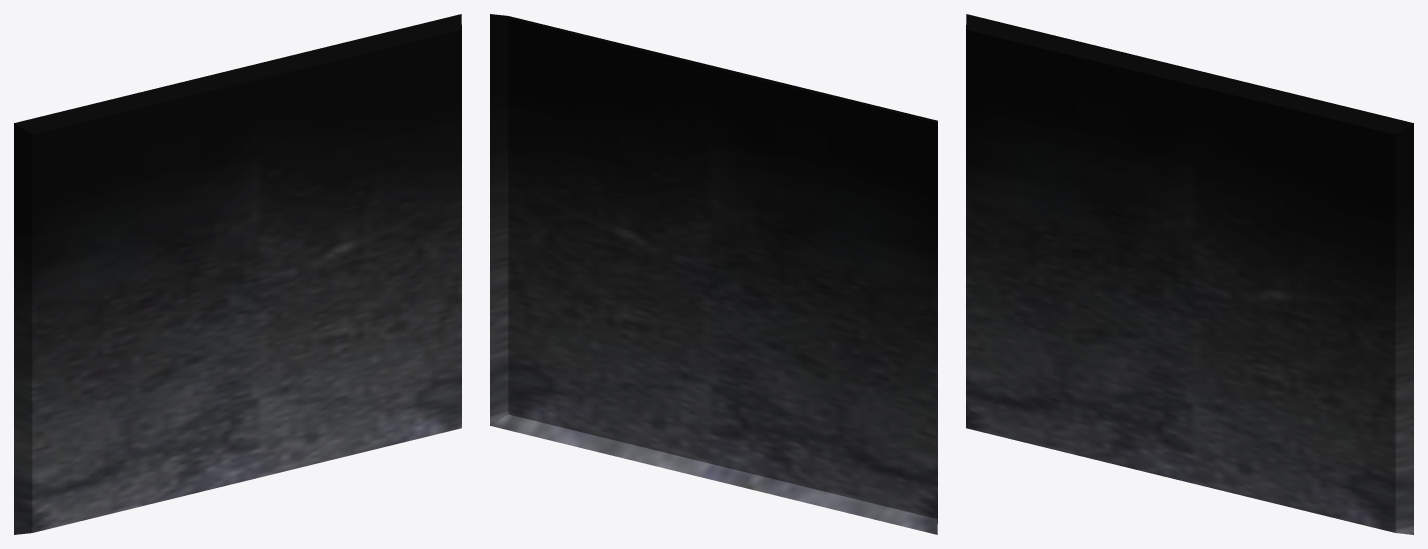
3 renders of one model, left to right at view 1: azimuth 30°, elevation 25°; view 2: azimuth 150°, elevation 25°; view 3: azimuth 330°, elevation 25°, orthographic.
Visible parts, largest first — view 1: model_Object07; view 2: model_Object07; view 3: model_Object07.
Boxes of the visible parts, x1,y1,x2,y2 form: model_Object07: (14,14,461,534); model_Object07: (490,14,937,534); model_Object07: (966,14,1413,534).
Bounding box in the file's own units: 1.73 × 1.52 × 0.0629.
1 material, 1 textured.
